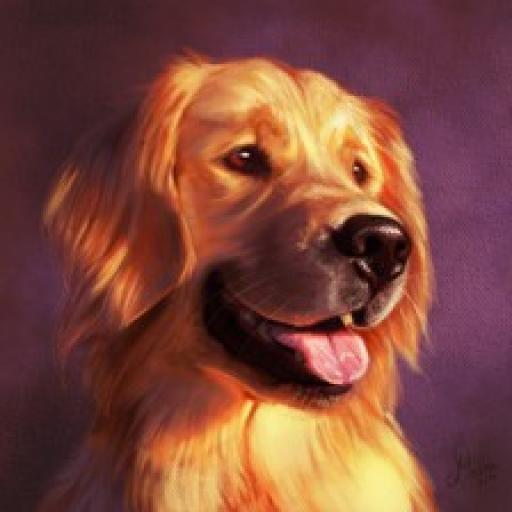dog: (37, 31, 443, 512)
